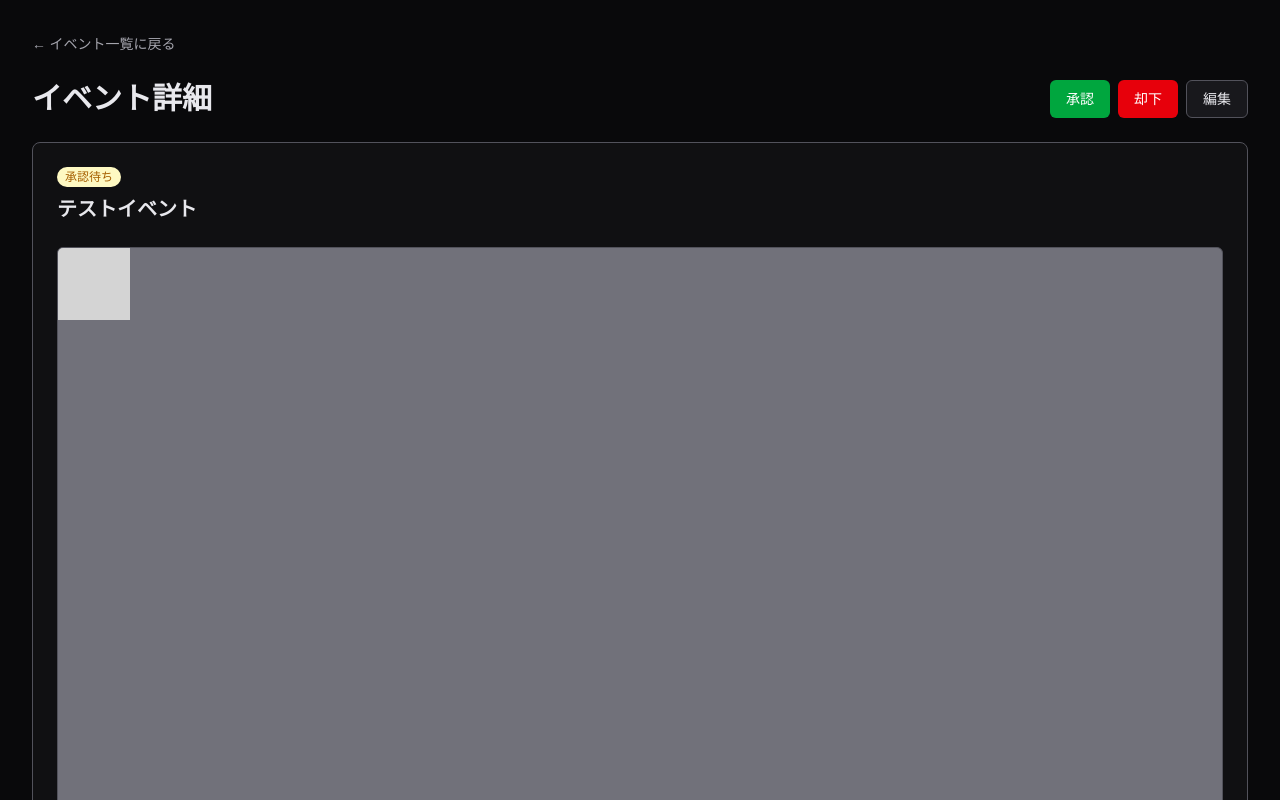
Test: AdminEventDetailPage › 承認ボタンをクリックすると、承認確認モーダルを表示する
This screenshot has width=1280, height=800.
Click the button "承認" at [1080, 99], box [1050,80,1110,118]
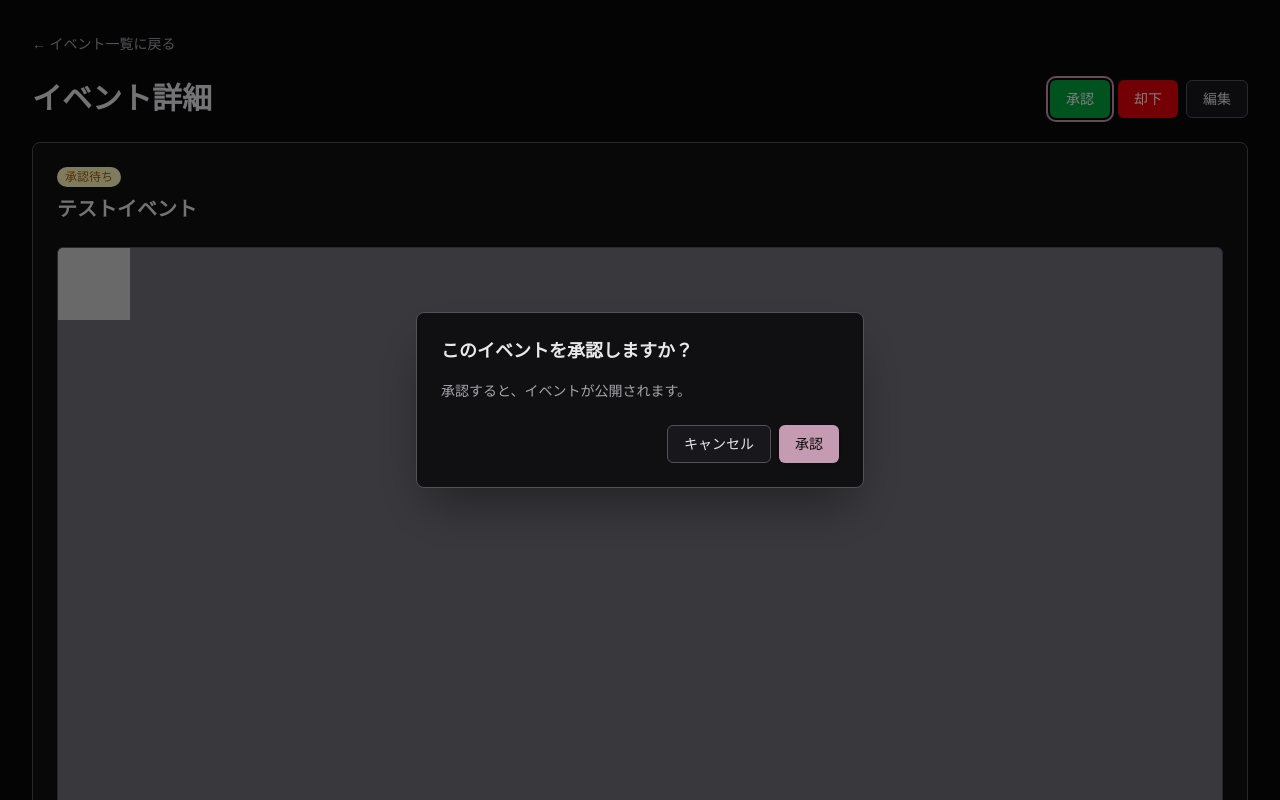
expect the text "このイベントを承認しますか？" is shown: met, box [441,339,693,362]
